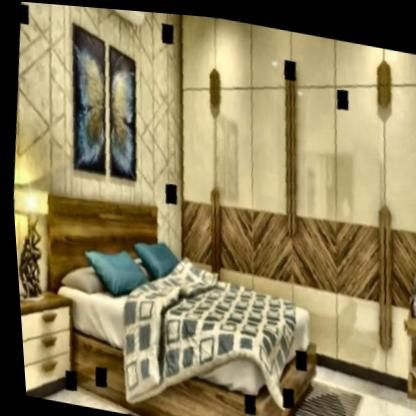Bed: (48, 194, 326, 416)
Closet: (297, 51, 416, 393)
Lamp: (9, 180, 57, 295)
Nightstand: (15, 280, 77, 404)
